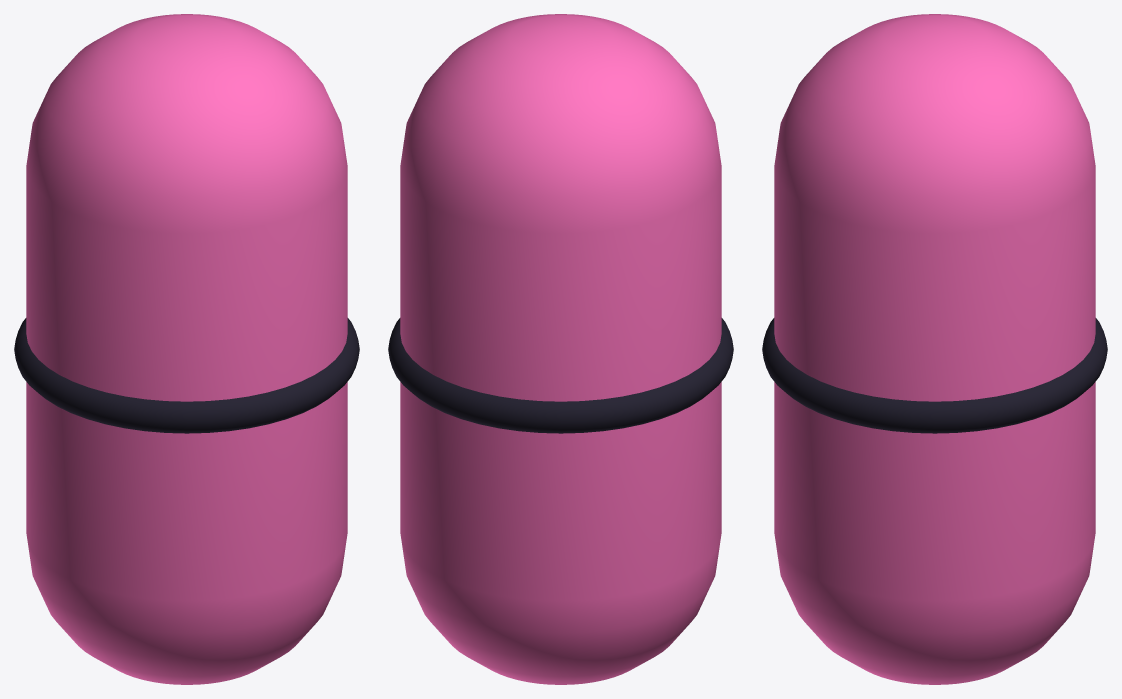
File: Bumper.obj
3 views of the same model, side by side, from view 1: azimuth 30°, elevation 25°; view 2: azimuth 150°, elevation 25°; view 3: azimuth 270°, elevation 25° (orthographic).
Visible parts, largest first — view 1: Bumper; view 2: Bumper; view 3: Bumper.
Part boxes in pixels (<box>): Bumper: <box>14,14,359,684</box>; Bumper: <box>388,14,733,684</box>; Bumper: <box>762,14,1107,684</box>.
Size of the model in its own units: 0.99 by 2 by 0.99.
